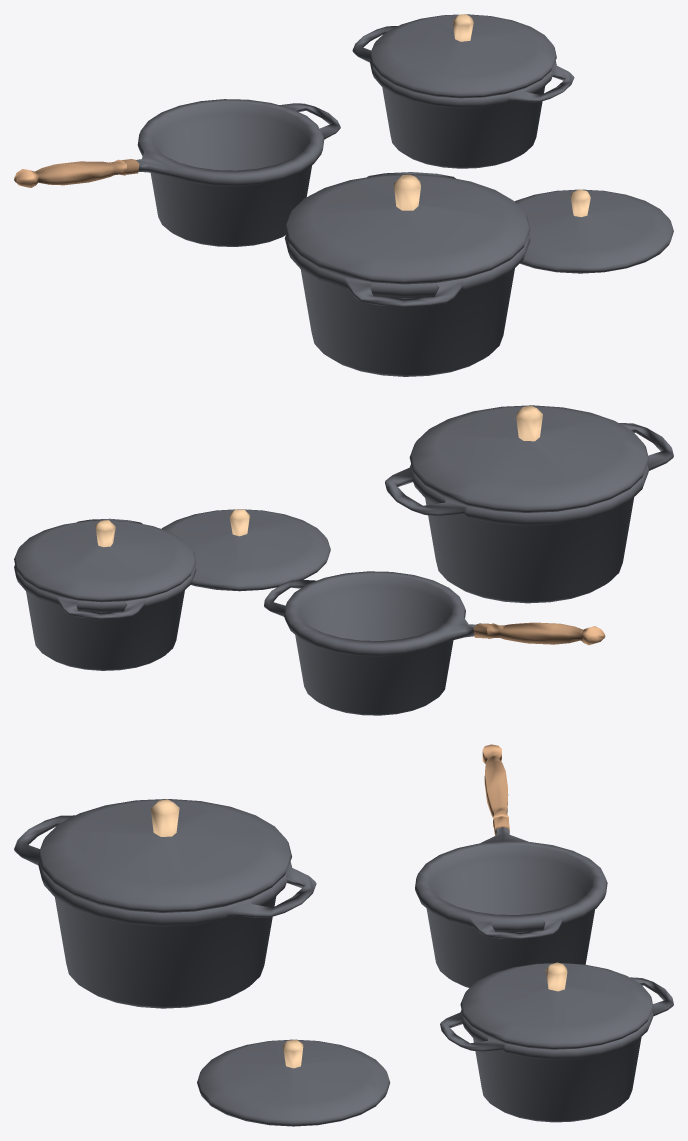
Rendered from Group of pots.glb.
3 renders of one model, top to bottom at view 1: azimuth 30°, elevation 25°; view 2: azimuth 150°, elevation 25°; view 3: azimuth 270°, elevation 25°, orthographic. The views are drawn at different scales.
Visible parts, largest first — view 1: Cylinder.004; view 2: Cylinder.004; view 3: Cylinder.004.
Boxes of the visible parts, x1,y1,x2,y2 form: Cylinder.004: [14, 14, 673, 376]; Cylinder.004: [14, 405, 673, 715]; Cylinder.004: [14, 744, 673, 1126].
Size of the model in its own units: 8.87 by 2.44 by 8.75.
